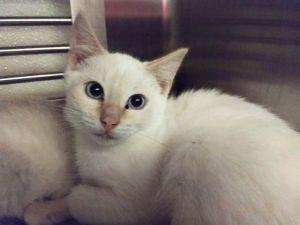siamese: (56, 10, 192, 152)
